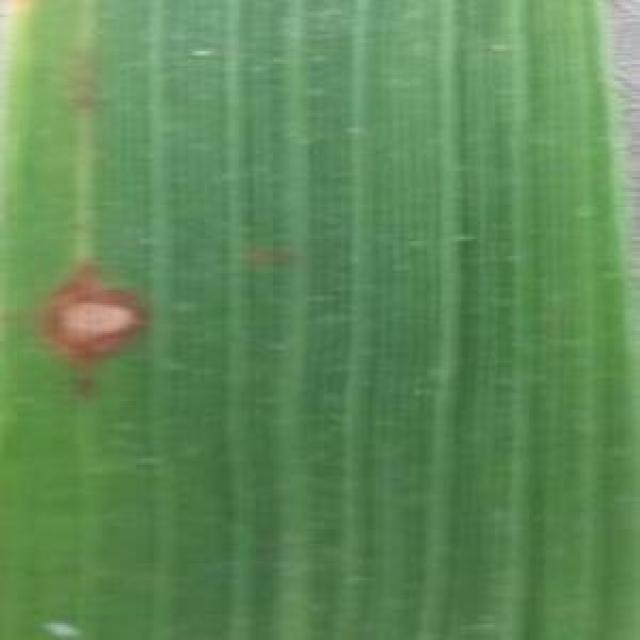Rice_Blast: (32, 247, 152, 391)
